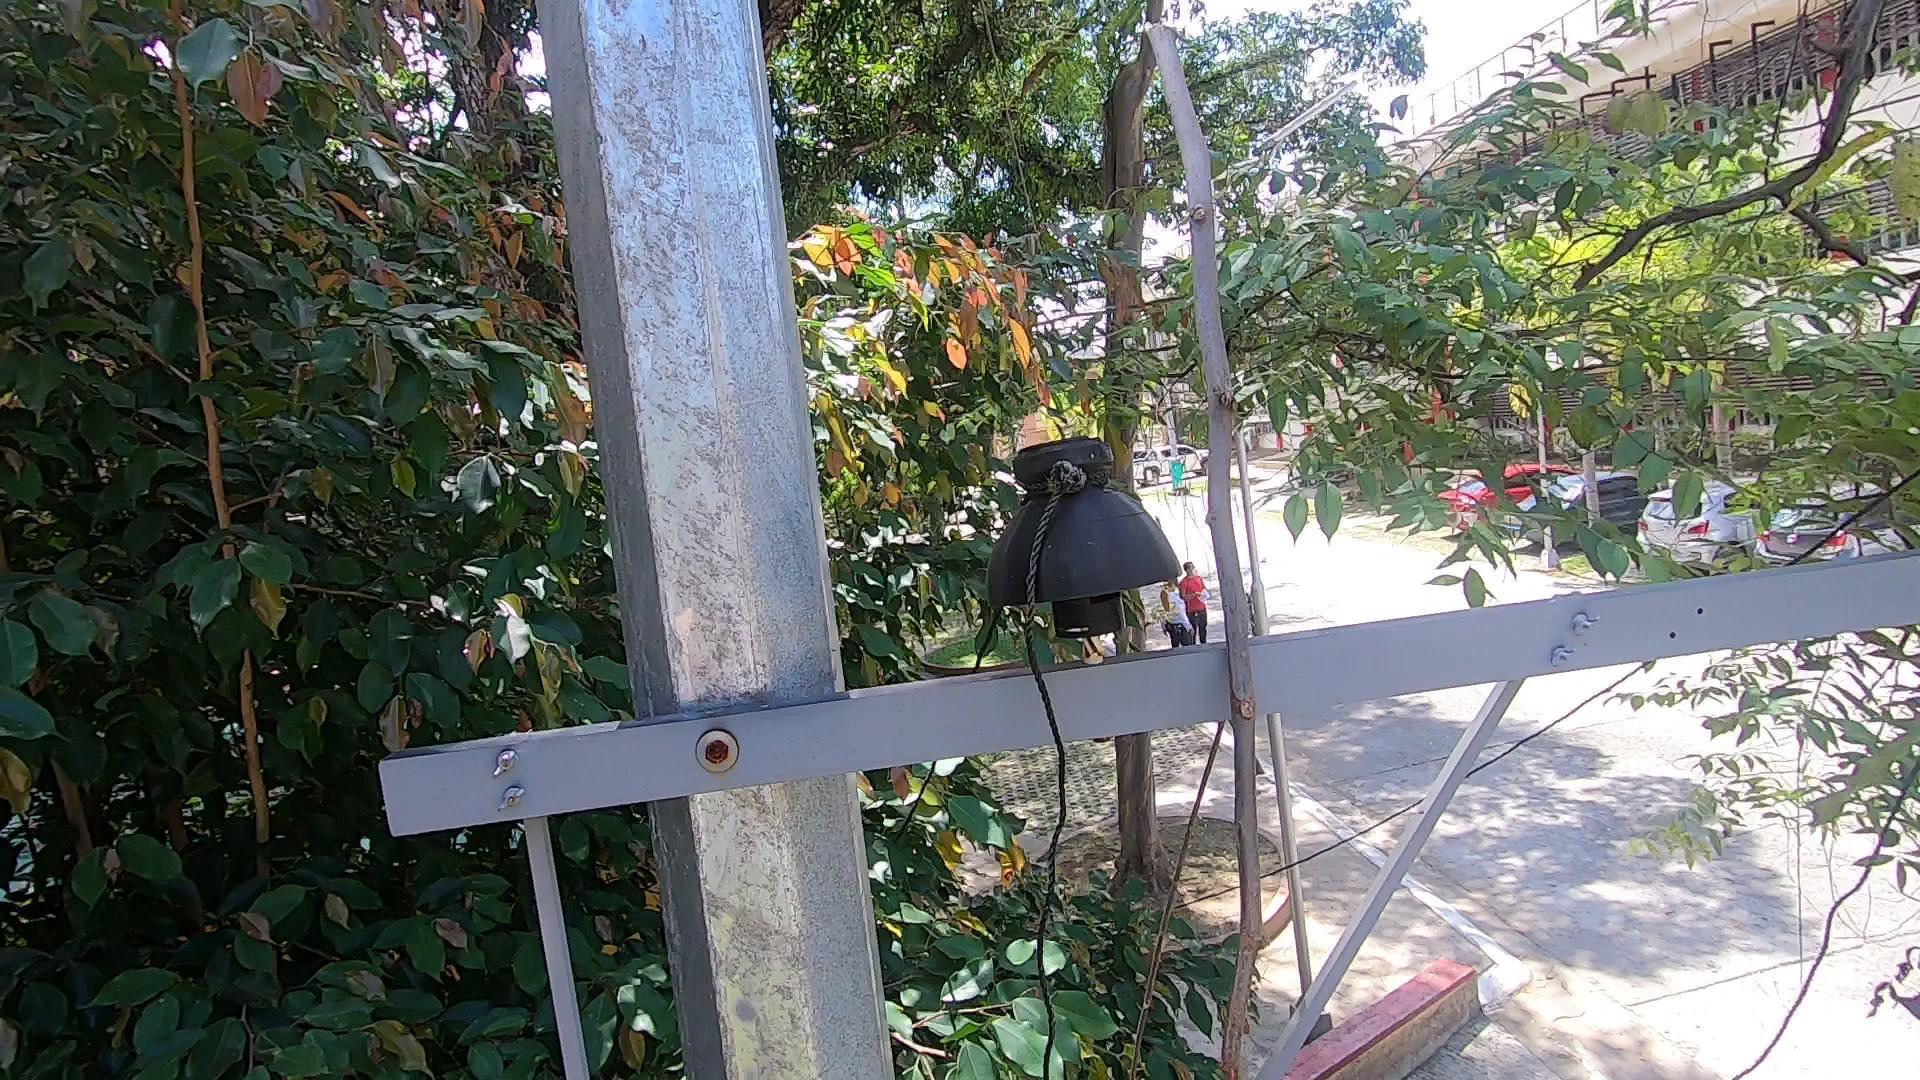tree branch: (1081, 1, 1354, 1073)
